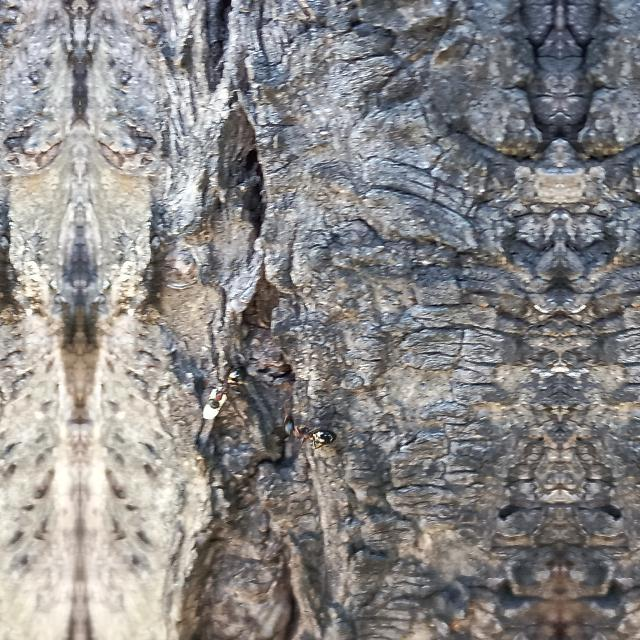Dolichoderus: (272, 400, 344, 460), (203, 338, 251, 414)
